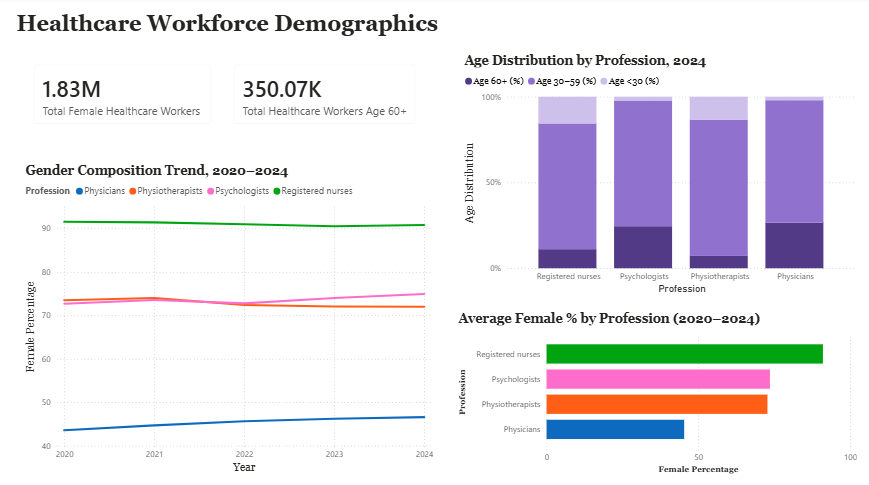

This screenshot's page, from the dashboard's own definition file:
{"tool":"powerbi","page":{"name":"Healthcare Workforce Demographics","canvas":[1280,720],"ordinal":1},"visuals":[{"type":"textbox","box":[20,16.7,633.3,65],"z":0},{"type":"hundredPercentStackedColumnChart","title":"Age Distribution by Profession, 2024","fields":{"Y":["Avg(Profession.Age 60+ (%))","Avg(Profession.Age 30–59 (%))","Avg(Profession.Age <30 (%))"],"Category":["Profession.Profession"]},"box":[676.7,81.7,583.3,358.3],"z":1000},{"type":"clusteredBarChart","title":"Average Female % by Profession (2020–2024)","fields":{"Category":["Profession.Profession"],"Y":["Avg(Profession.Female (%))"]},"box":[666.7,460,593.3,243.3],"z":2000},{"type":"lineChart","title":"Gender Composition Trend, 2020–2024","fields":{"Category":["Profession.Year"],"Y":["Avg(Profession.Female (%))"],"Series":["Profession.Profession"]},"box":[33.3,243.3,606.7,460],"z":3000},{"type":"cardVisual","fields":{"Data":["Profession.Female Worker Count"]},"box":[33.3,81.7,293.3,121.7],"z":4000},{"type":"cardVisual","fields":{"Data":["Profession.Total Healthcare Workers Age 60+"]},"box":[326.7,81.7,300,121.7],"z":5000}]}

Visuals, with their boxes in screenshot pixels (x1, y1, x2, y2), scaled from the page's 1280x720 canvas onto the 869x485 screenshot:
textbox: bbox=(14, 11, 444, 55)
"Age Distribution by Profession, 2024" hundredPercentStackedColumnChart: bbox=(459, 55, 855, 296)
"Average Female % by Profession (2020–2024)" clusteredBarChart: bbox=(453, 310, 855, 474)
"Gender Composition Trend, 2020–2024" lineChart: bbox=(23, 164, 434, 474)
cardVisual - Profession.Female Worker Count: bbox=(23, 55, 222, 137)
cardVisual - Profession.Total Healthcare Workers Age 60+: bbox=(222, 55, 425, 137)
